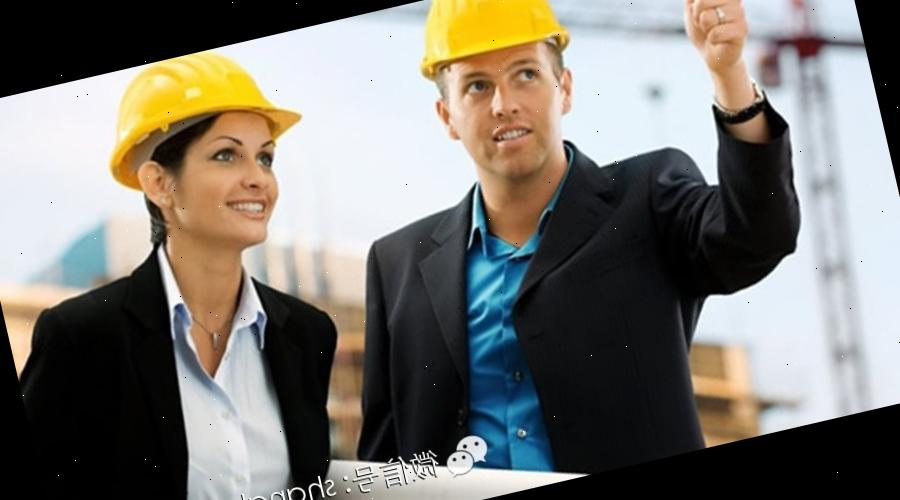helmet: (73, 32, 305, 180), (397, 0, 574, 84)
no_wear: (365, 154, 724, 500), (3, 243, 379, 500)
